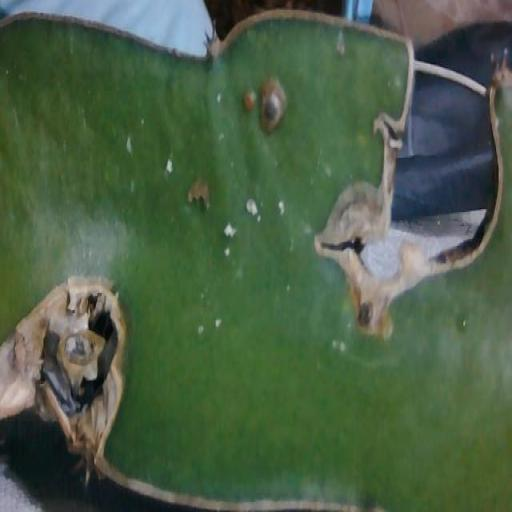stemcanker: (239, 187, 266, 223), (215, 218, 237, 246), (275, 195, 292, 220)
